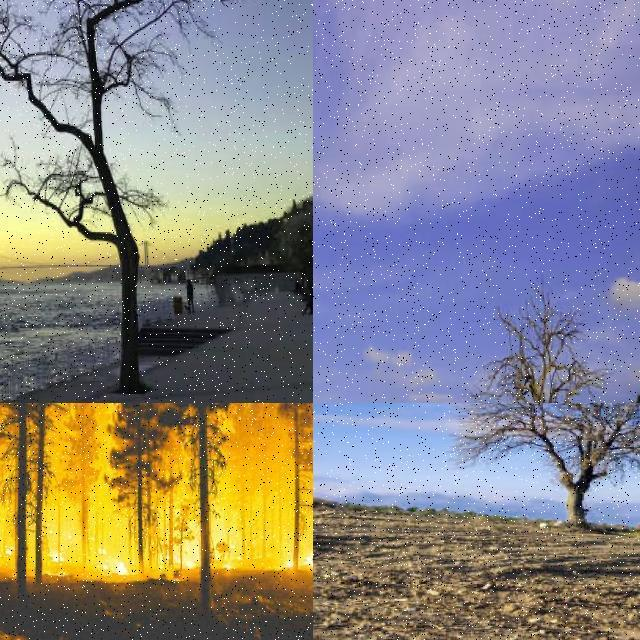tree: (0, 1, 264, 376), (149, 403, 249, 640), (459, 403, 640, 528), (454, 271, 610, 403), (0, 403, 79, 640), (0, 403, 52, 640), (109, 404, 163, 580), (272, 403, 312, 571), (64, 404, 100, 580), (245, 403, 282, 565), (33, 403, 55, 583), (0, 402, 20, 598), (89, 403, 108, 584), (0, 430, 12, 570), (0, 433, 12, 561)
